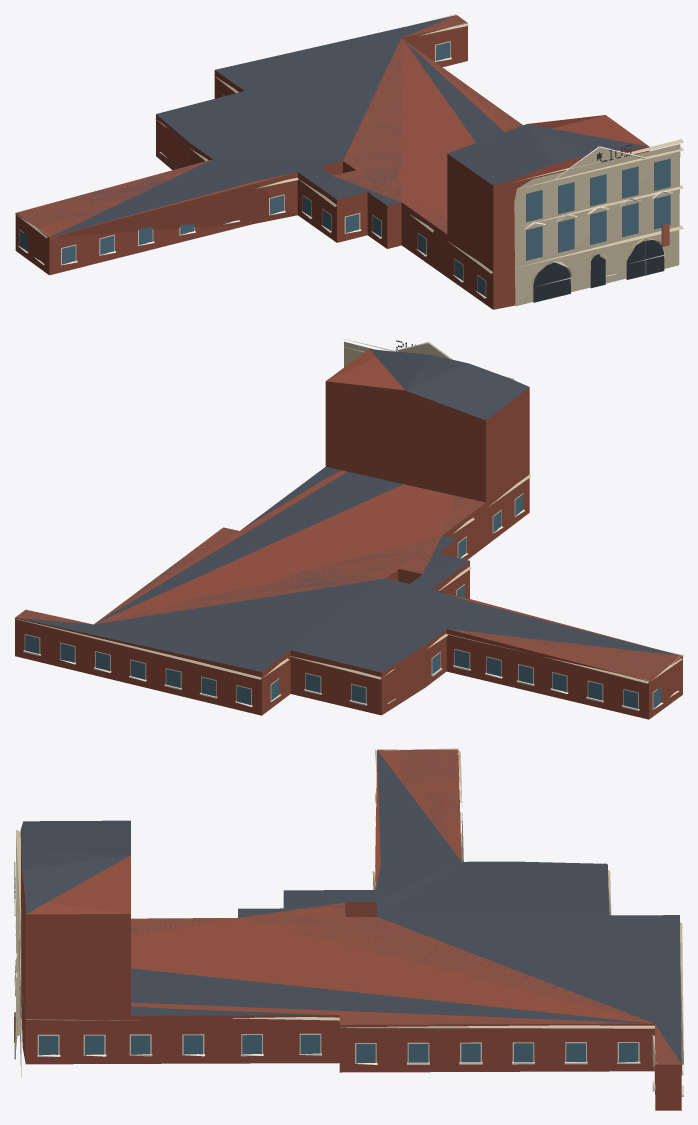
File: dutch-resistance-museum.lod1.glb
3 views of the same model, one above another, from view 1: azimuth 30°, elevation 25°; view 2: azimuth 150°, elevation 25°; view 3: azimuth 270°, elevation 25° (orthographic). The views are drawn at different scales.
Parts seen in each view (by area): view 1: dutch-resistance-museum; view 2: dutch-resistance-museum; view 3: dutch-resistance-museum.
Boxes of the visible parts, bbox=[...] form: dutch-resistance-museum: bbox=[15, 14, 683, 309]; dutch-resistance-museum: bbox=[14, 338, 683, 719]; dutch-resistance-museum: bbox=[14, 748, 683, 1110].
Size of the model in its own units: 71.11 by 17.89 by 63.7.
